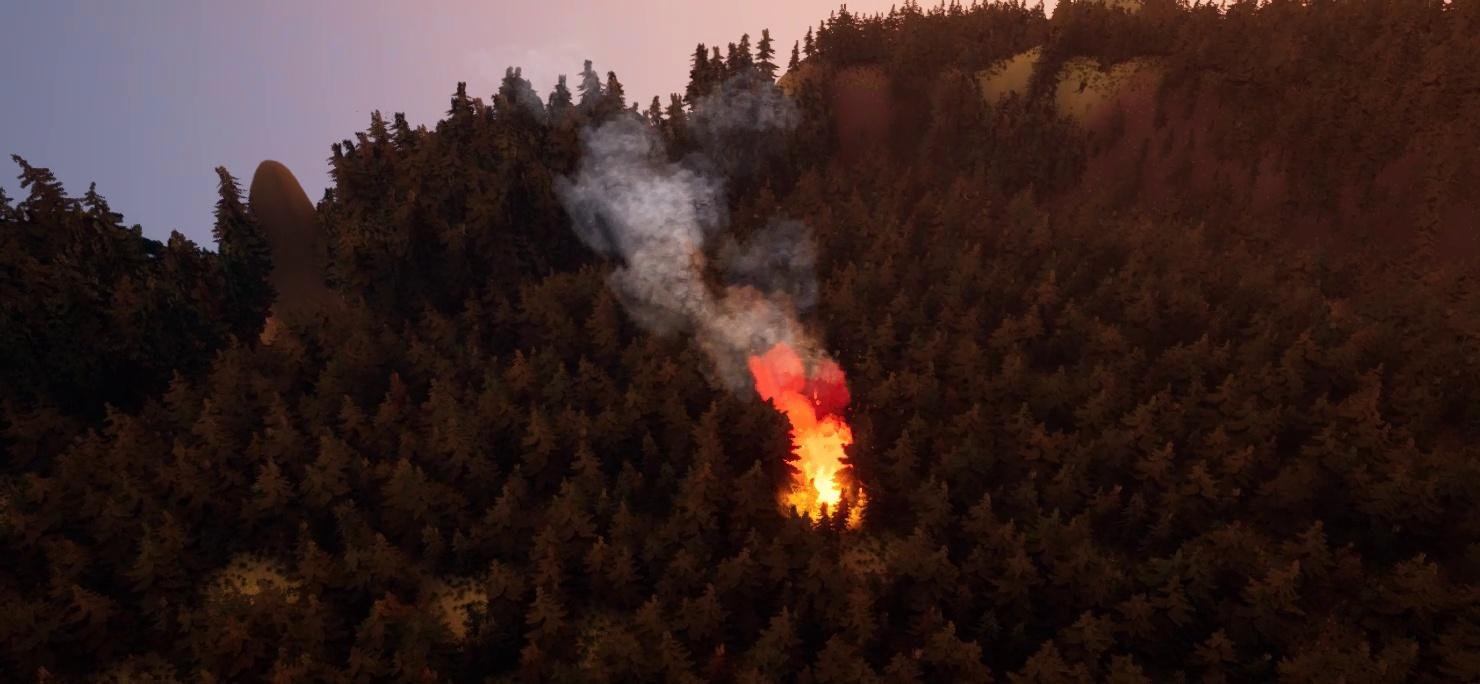fire: (744, 337, 864, 532)
smoke: (564, 68, 816, 370)
